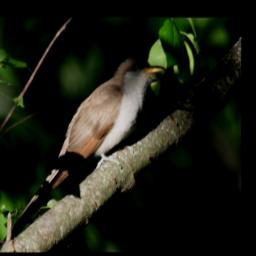Cuckoo: (5, 56, 166, 243)
